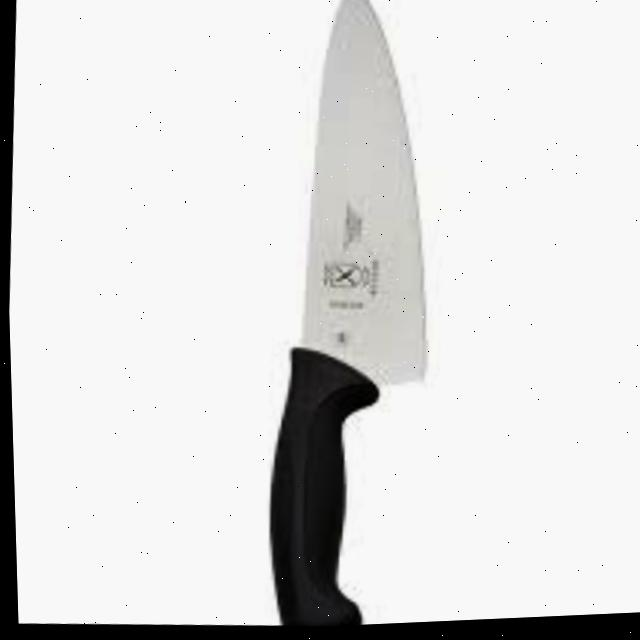Knife: (249, 0, 453, 631)
